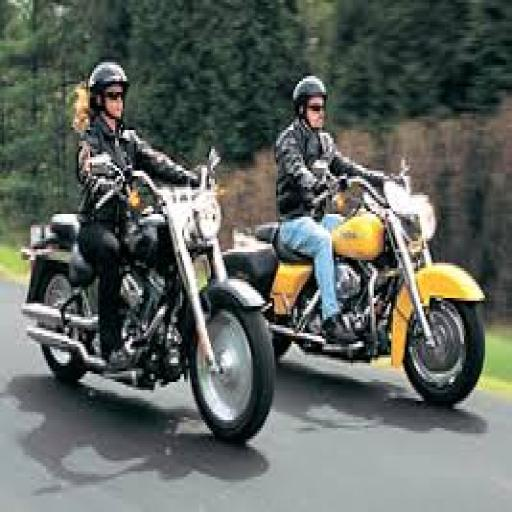overloading: (17, 44, 491, 444)
